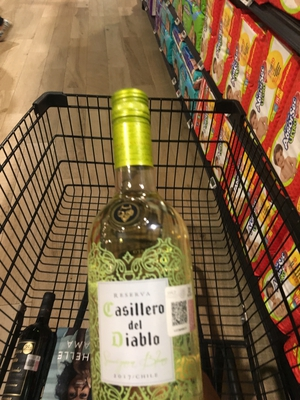casillero del diablo sauvignon blanc: (85, 87, 206, 398)
